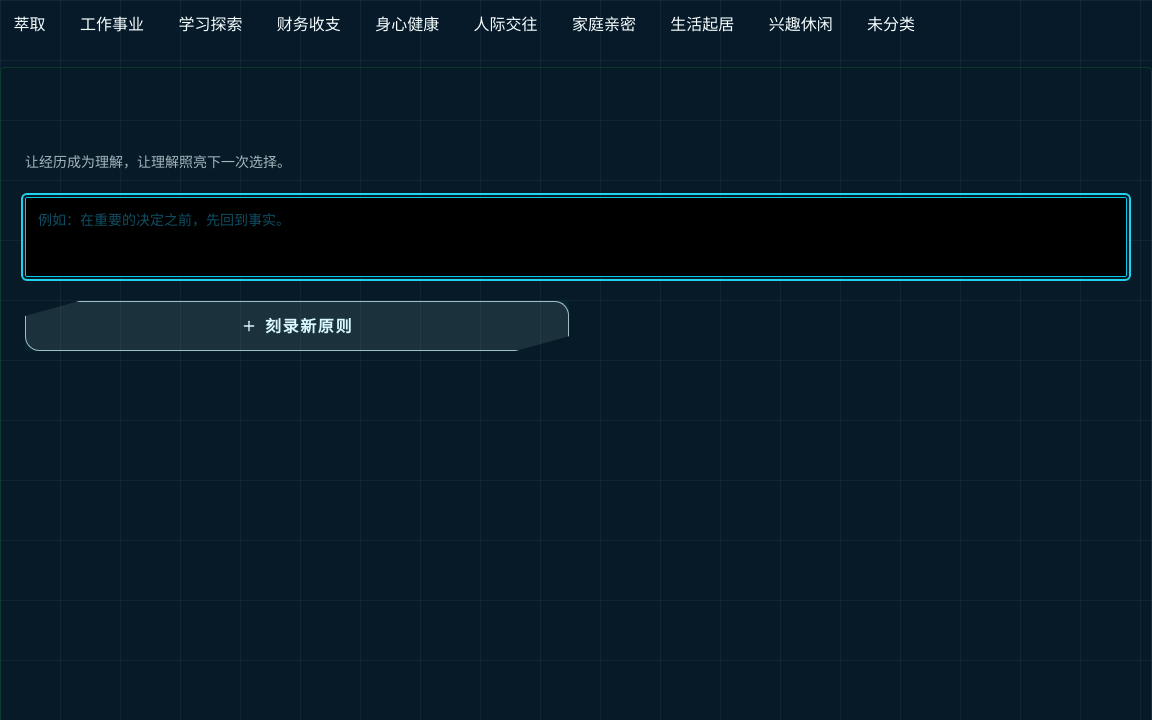
Test case: ArchivePrinciplesView › renders persisted principles grouped by year (descending)
This screenshot has width=1152, height=720.
Click the button "未分类": (891, 24) [854,2,929,46]
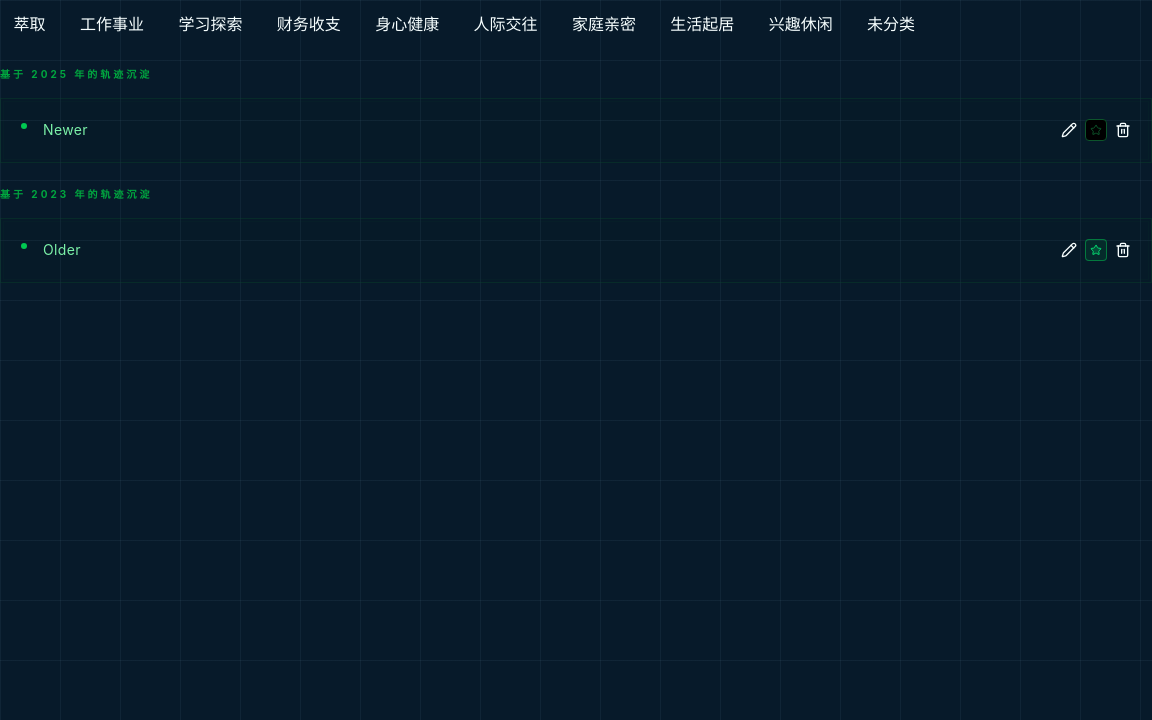
Check: the text "Older" is shown, box [43,239,81,262]
Check: the text "Newer" is shown, box [43,119,88,142]
